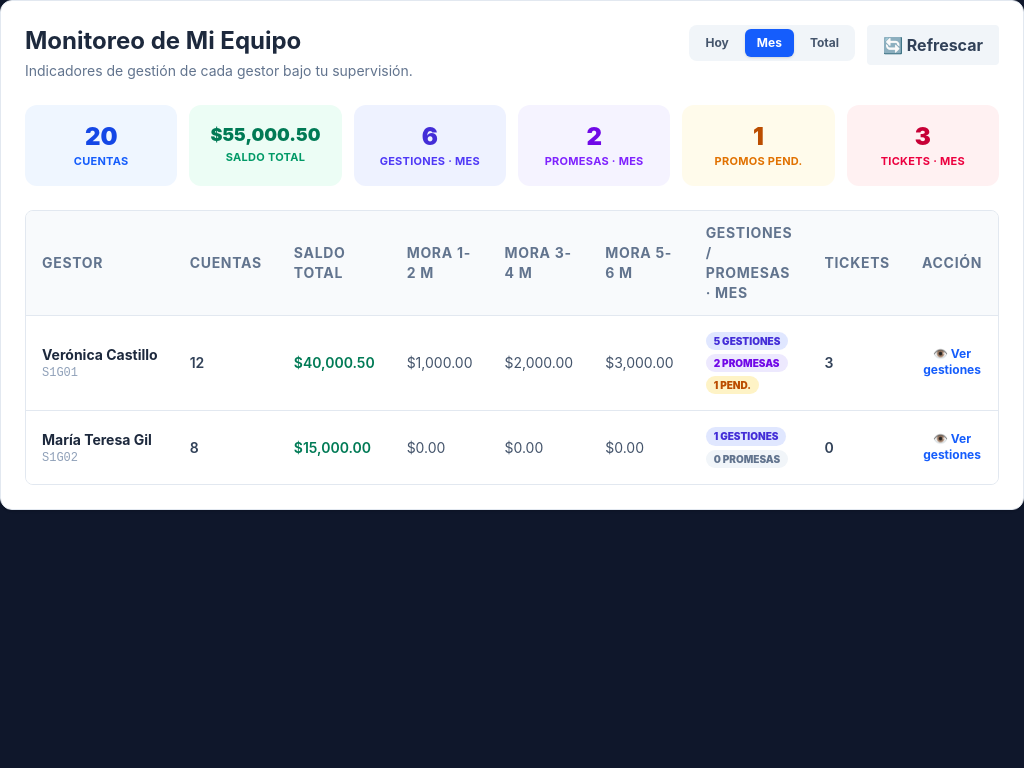
it: SupervisionPanel: detalhe de gestiones › abre el modal con las gestiones del gestor pulsado
Check: the text "Verónica Castillo" is shown, box 42,345 -> 158,365
What coordinates should you click on to do the following:
click the button "👁 Ver gestiones" in the row of "Verónica Castillo"
I would click on:
 (952, 362)
Its box is 922,346 -> 982,378.
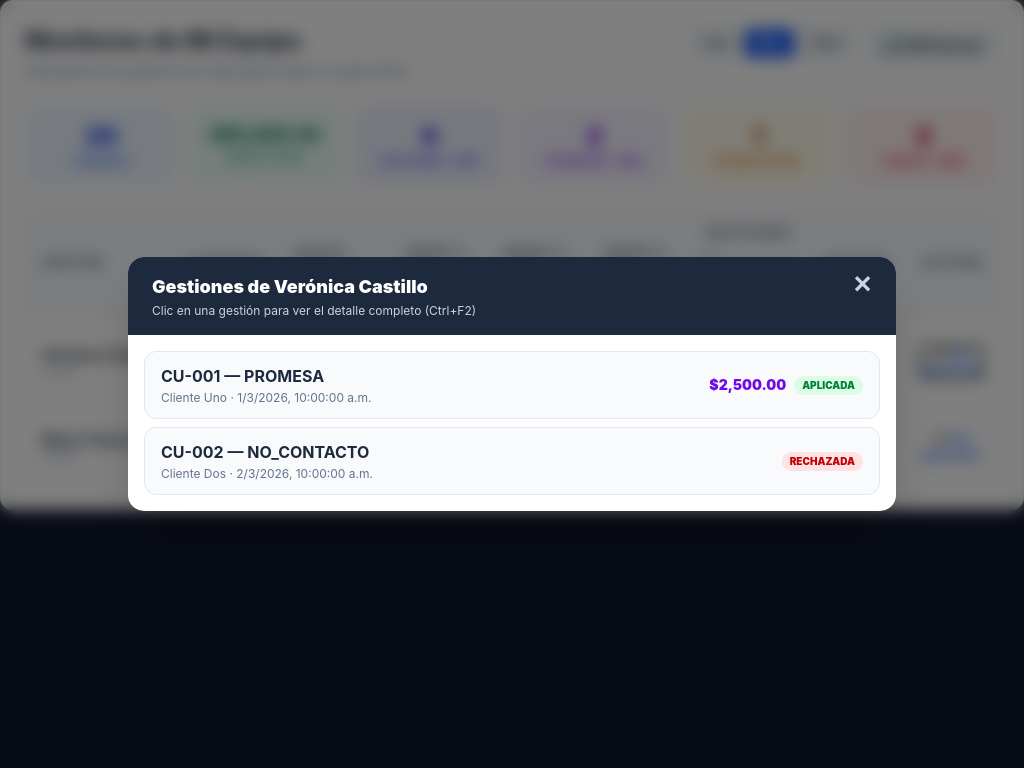
Check: the heading "Gestiones de Verónica Castillo" is shown, box 152,273 -> 476,301
